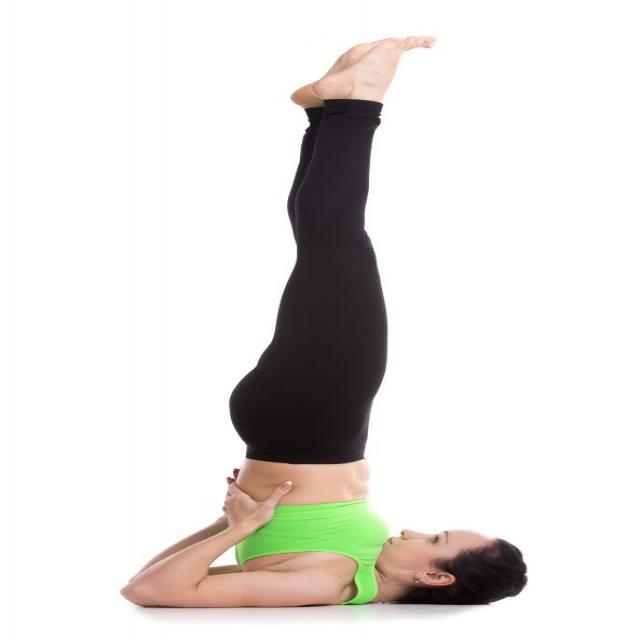yoga-pose shoulderstand: (135, 30, 548, 608)
